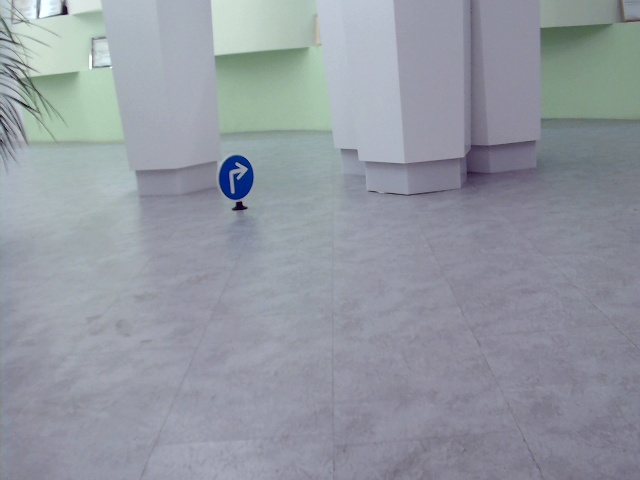turn_right: (226, 163, 245, 196)
